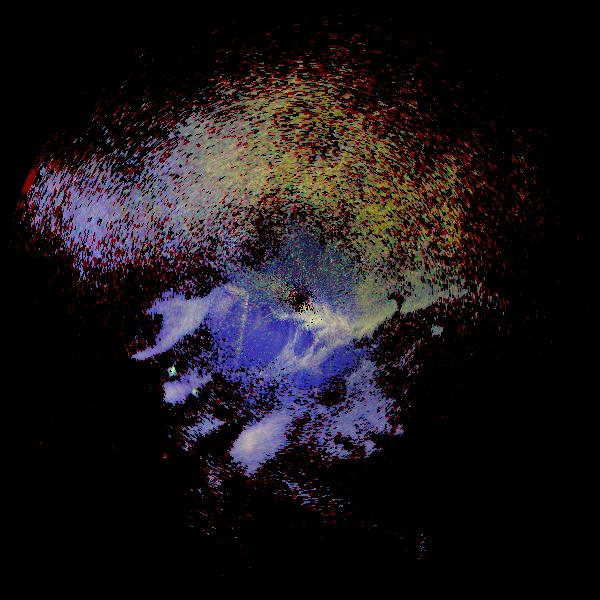roost: (166, 367, 178, 379)
